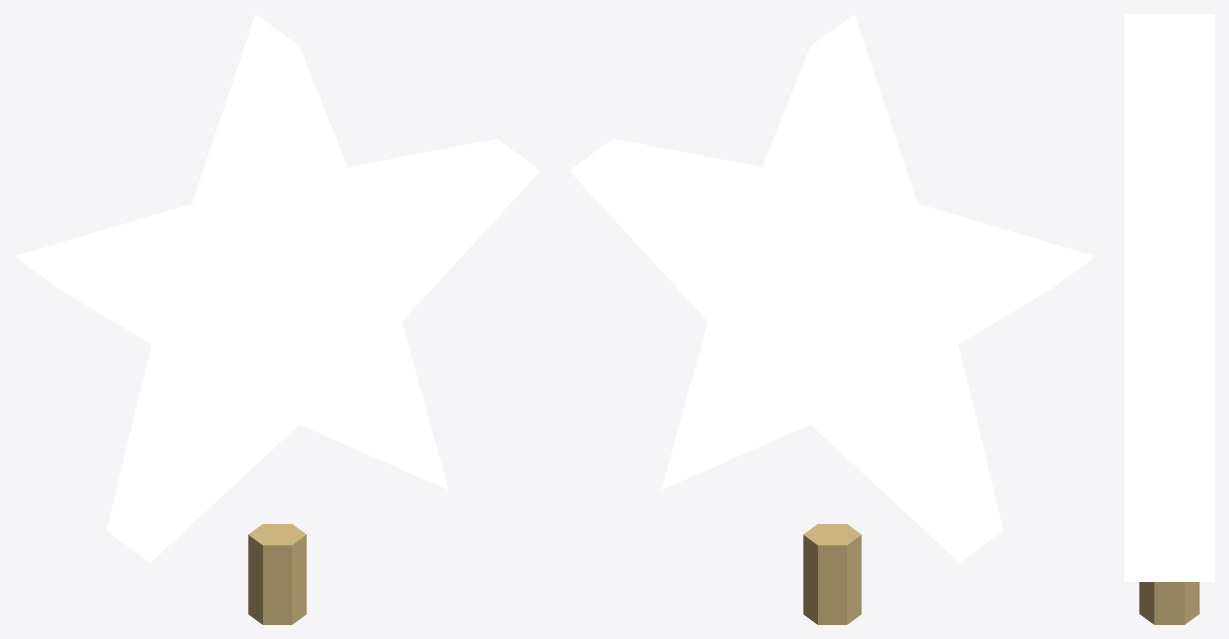
File: sb_star.glb
3 renders of one model, left to right at view 1: azimuth 30°, elevation 25°; view 2: azimuth 150°, elevation 25°; view 3: azimuth 270°, elevation 25°, orthographic. The views are drawn at different scales.
Visible parts, largest first — view 1: star; view 2: star; view 3: star.
Boxes of the visible parts, bbox=[...] form: star: bbox=[14, 14, 540, 624]; star: bbox=[569, 14, 1095, 624]; star: bbox=[1124, 14, 1214, 624].
Bounding box in the file's own units: 0.7608 × 0.88 × 0.12.
